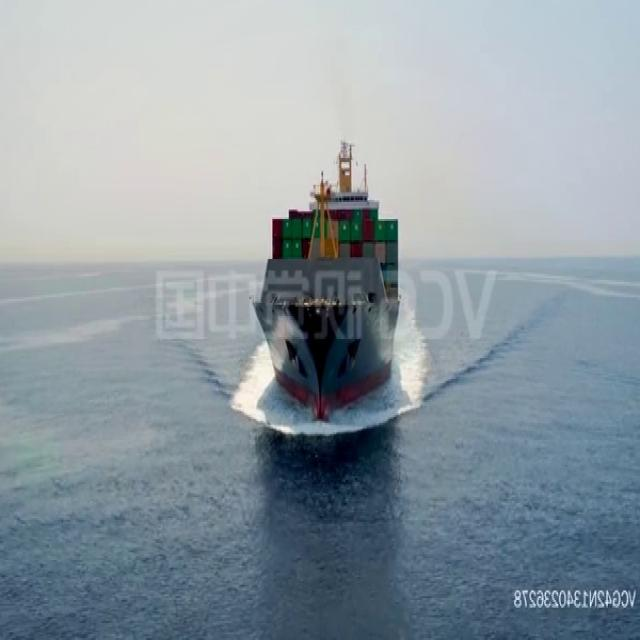cargoship: (252, 134, 400, 420)
